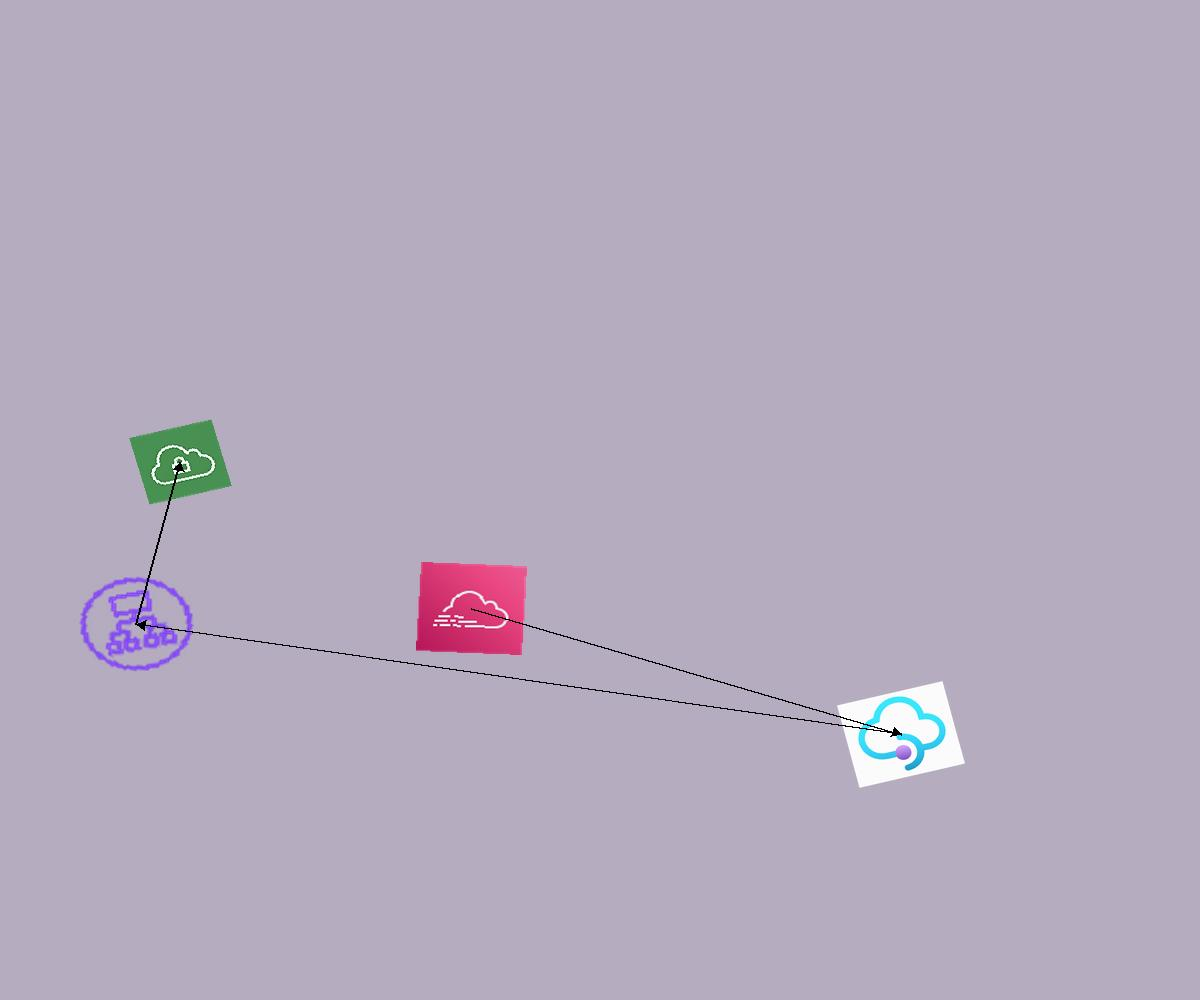AWS-CloudTrail: (416, 562, 527, 655)
AWS-Private_vpc: (129, 419, 232, 505)
AWS-Res_Elastic-Load-Balancing_Application-Load-Balancer: (63, 563, 210, 685)
Azure_api_gateway: (837, 681, 965, 788)
